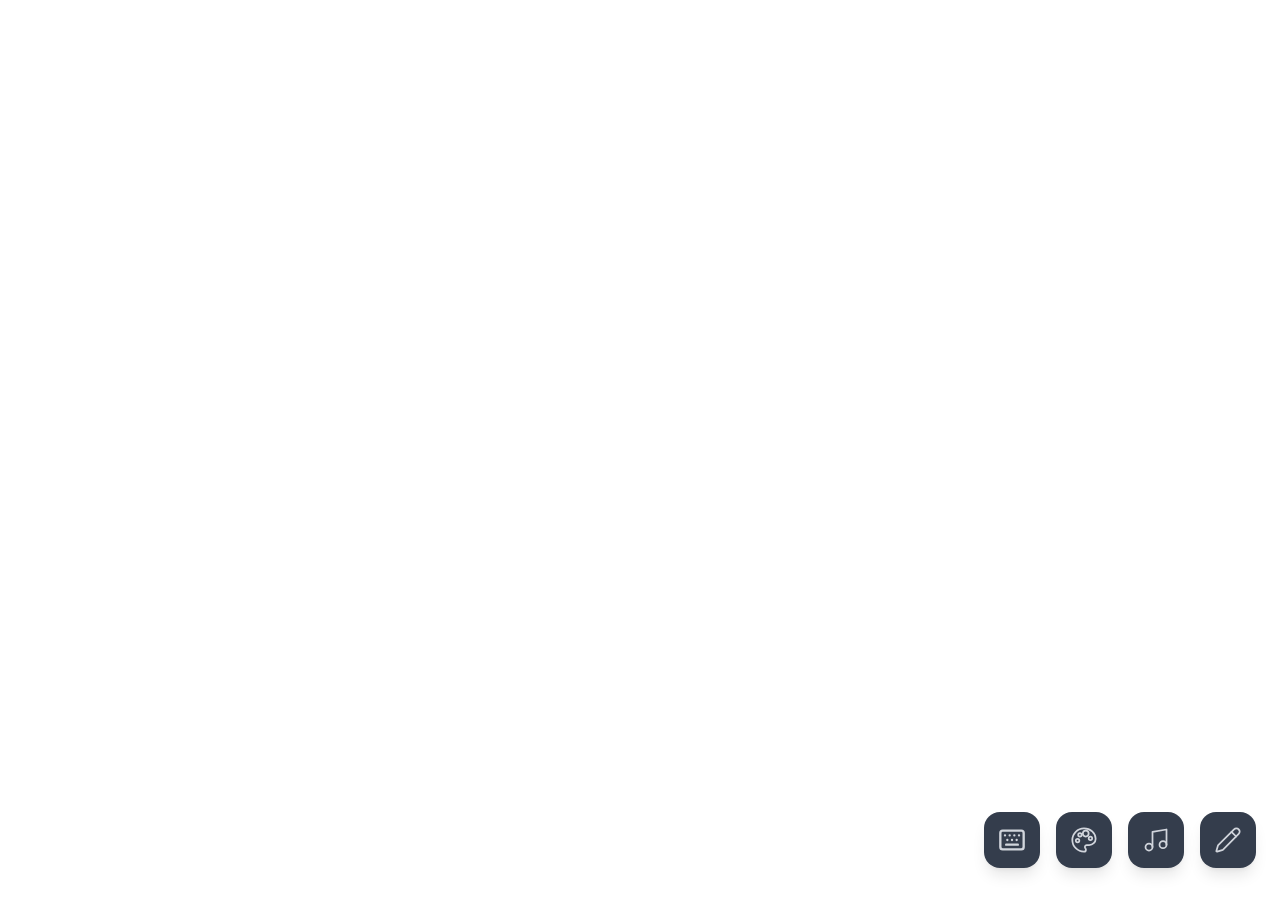
Scenario: FloatingActions › closes panel when clicking same button again
This screenshot has width=1280, height=900.
Click the button named "Theme".
click(1084, 840)  # box [1056,812,1112,868]
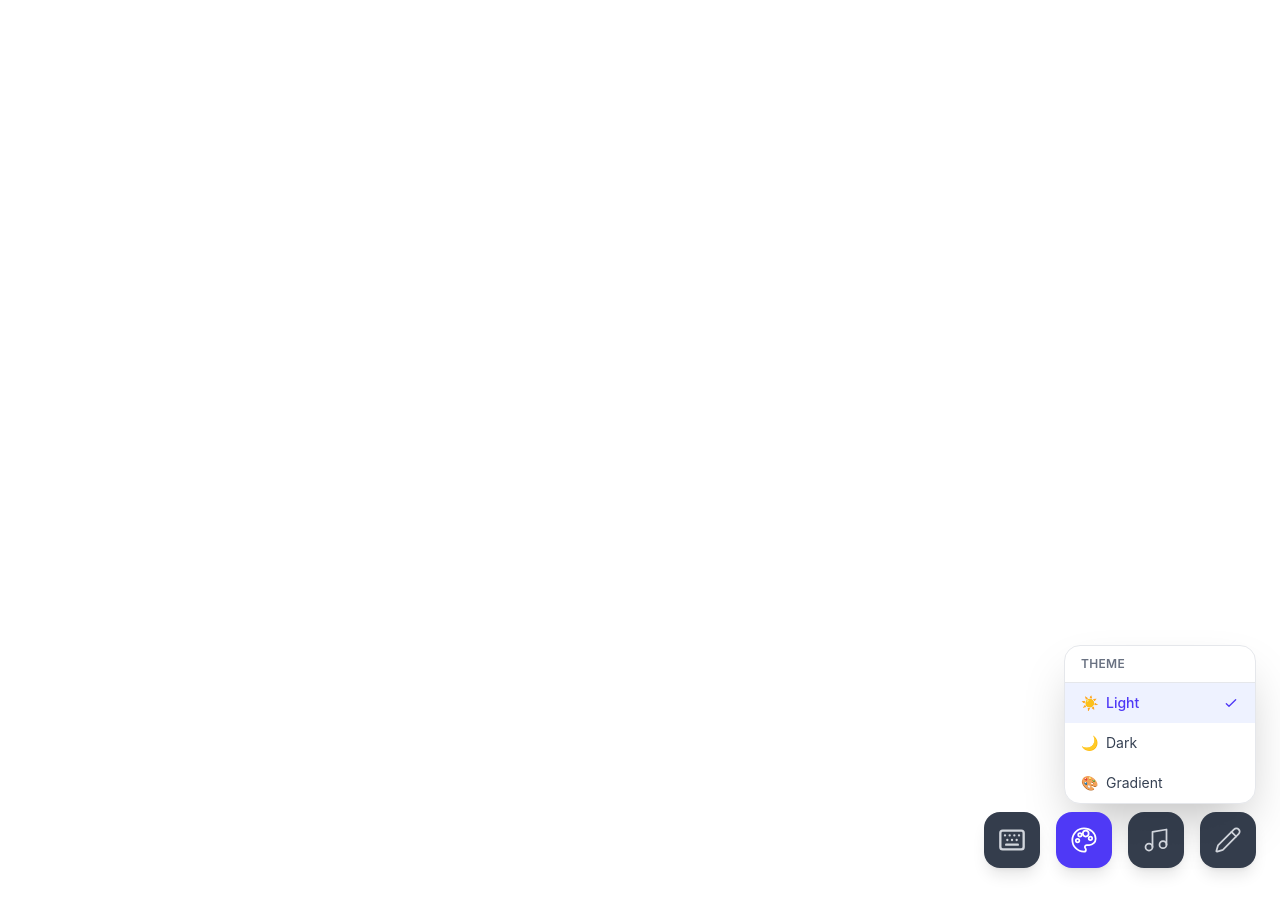
Check: the button named "Theme" is expanded
Click the button named "Theme".
click(1084, 840)  # box [1056,812,1112,868]
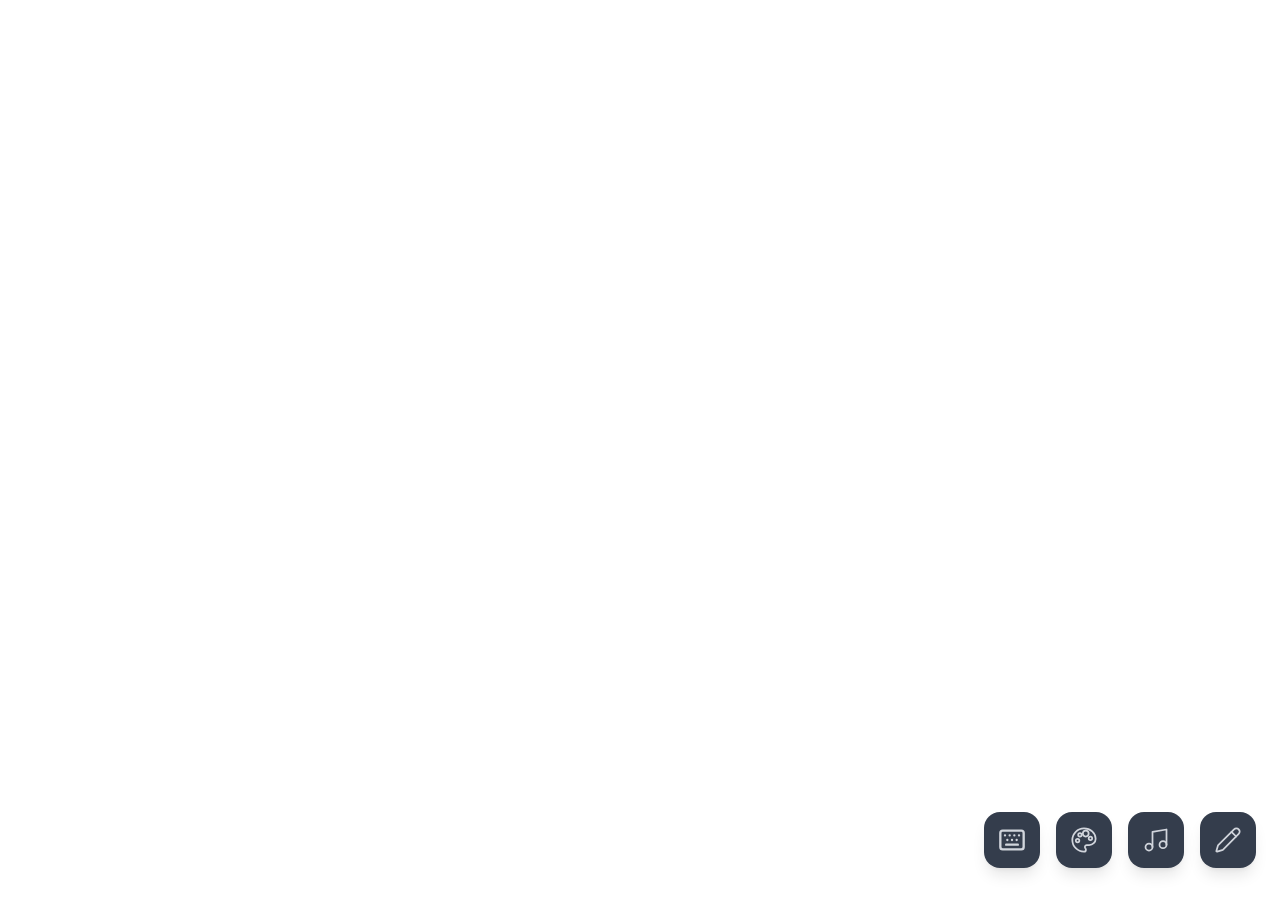
Check: the button named "Theme" is collapsed, box [1056,812,1112,868]
